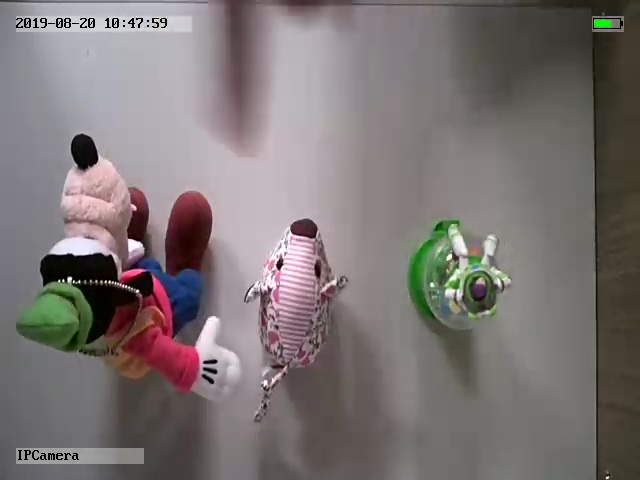buzz: (402, 217, 511, 340)
goofy: (17, 132, 242, 408)
pig: (244, 216, 353, 424)
